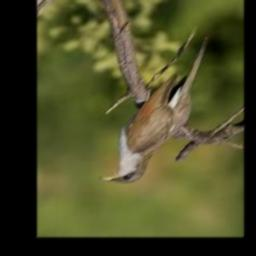Cuckoo: (99, 39, 209, 184)
